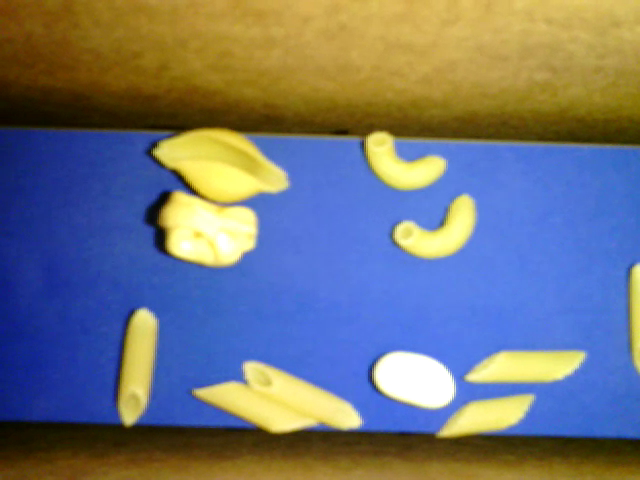elbow: (391, 193, 478, 260), (365, 131, 447, 191)
penne: (242, 359, 364, 432), (192, 380, 320, 434), (116, 308, 159, 427), (435, 393, 535, 437), (463, 350, 586, 385), (630, 263, 639, 372)
shell: (151, 128, 290, 206)
tortellini: (156, 189, 258, 267)
